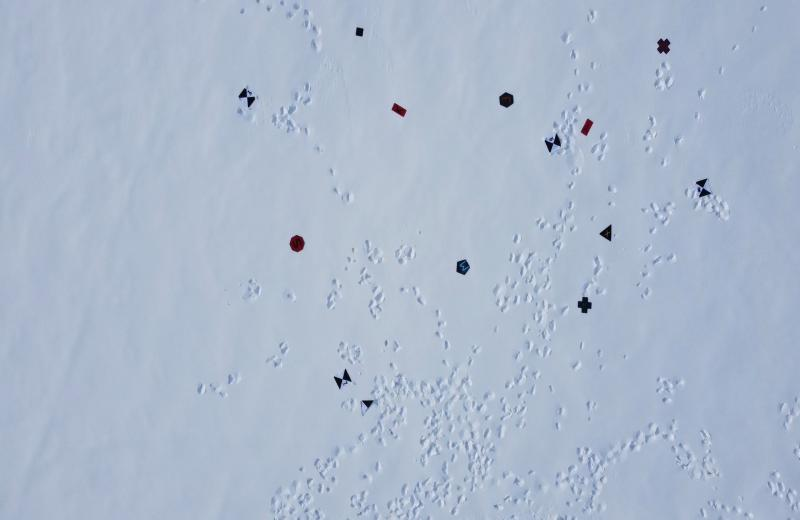Cross: (577, 296, 592, 315), (656, 38, 671, 54)
Hexagon: (499, 91, 514, 109)
Octagon: (288, 234, 306, 255)
Pentagon: (456, 258, 471, 277)
Rectangle: (580, 118, 595, 137), (390, 102, 406, 118)
Square: (355, 27, 365, 39)
Triangle: (598, 224, 614, 242)
